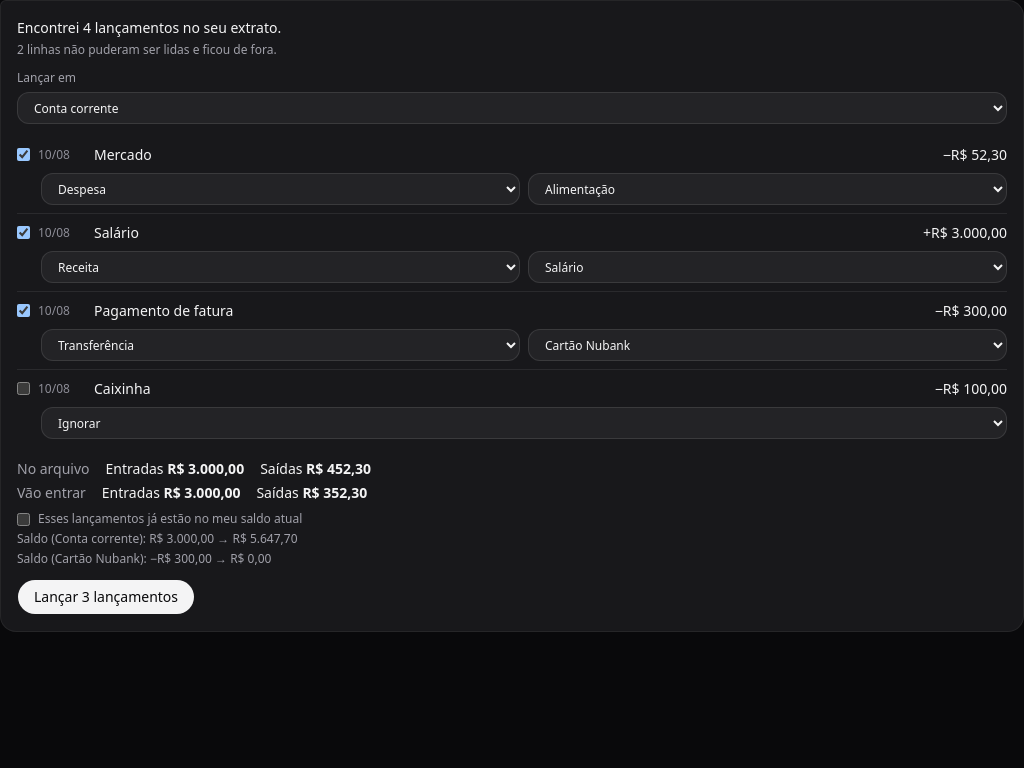
Test: RevisaoImportacao › trocar Ignorar por Despesa mostra a categoria e entra nos totais
Select "Despesa" in the dropdown named "Lançar como: Caixinha" at (524, 423), box [41,407,1007,439]
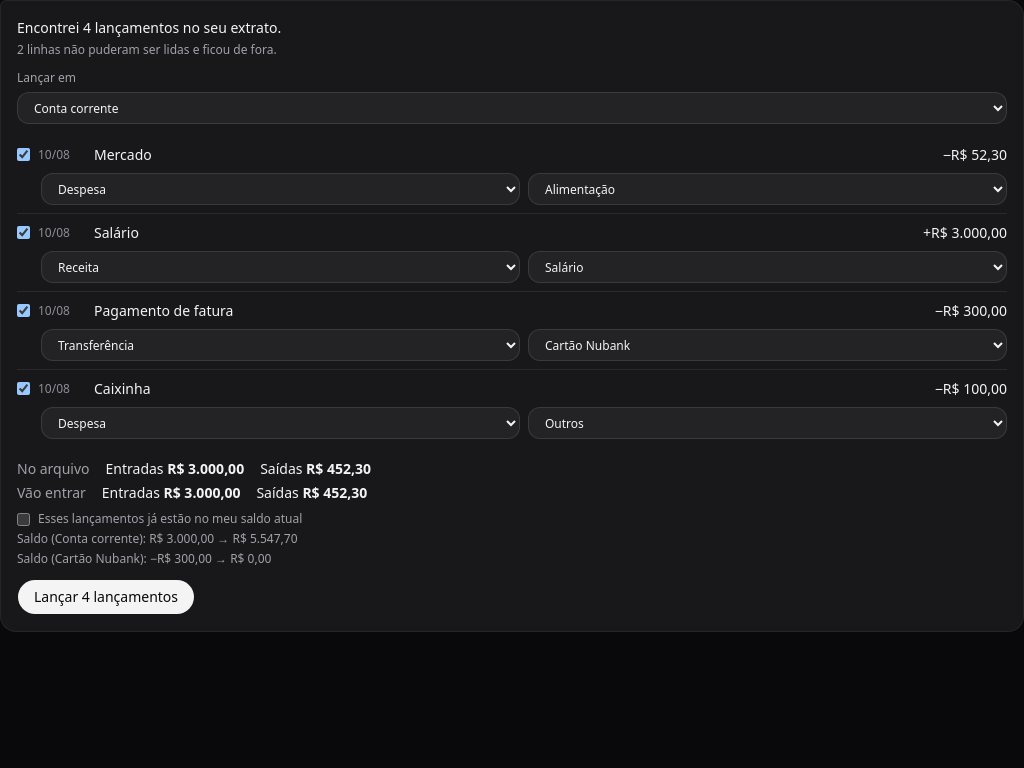
expect the dropdown named "Categoria: Caixinha" shows "Outros": met, box [528,407,1007,439]
expect the text "R$ 452,30" in the row of "Vão entrar" is shown: met, box [302,483,367,502]
